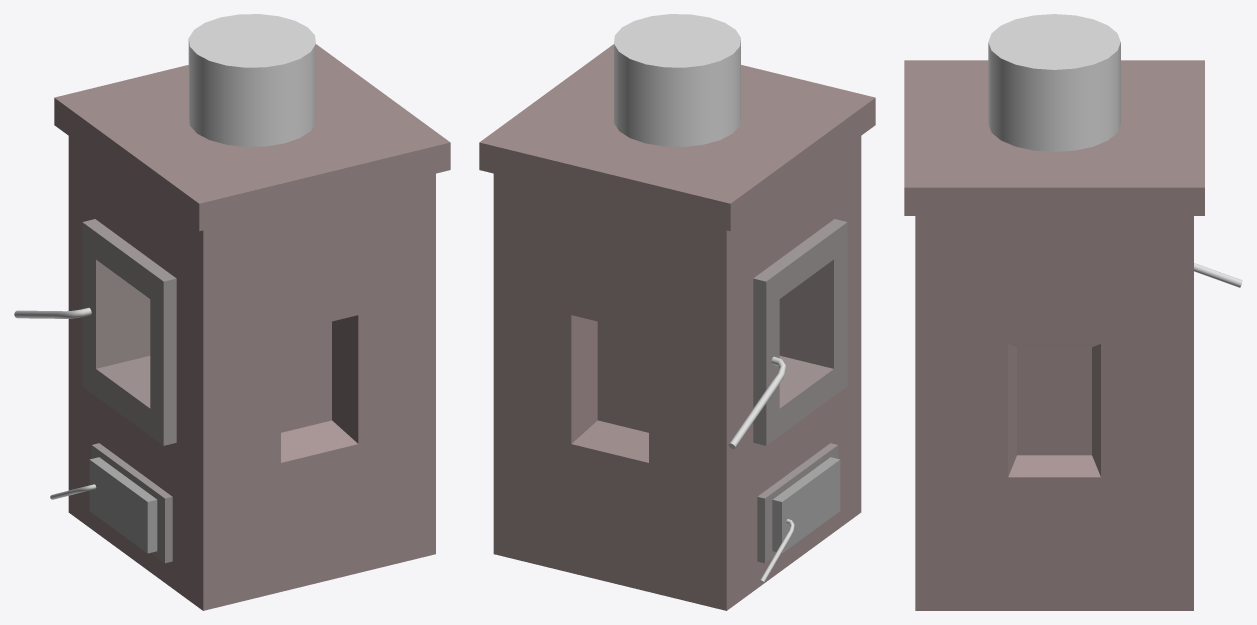
The model's file is かまど.fbx.
3 renders of one model, left to right at view 1: azimuth 30°, elevation 25°; view 2: azimuth 150°, elevation 25°; view 3: azimuth 270°, elevation 25°, orthographic. The views are drawn at different scales.
Visible parts, largest first — view 1: pasted__pCylinder2; view 2: pasted__pCylinder2; view 3: pasted__pCylinder2.
Part boxes in pixels (x1,y1,x2,y2): pasted__pCylinder2: [14, 14, 450, 610]; pasted__pCylinder2: [479, 14, 875, 610]; pasted__pCylinder2: [904, 14, 1242, 610].
Bounding box in the file's own units: 9.26 × 15.93 × 9.58.
